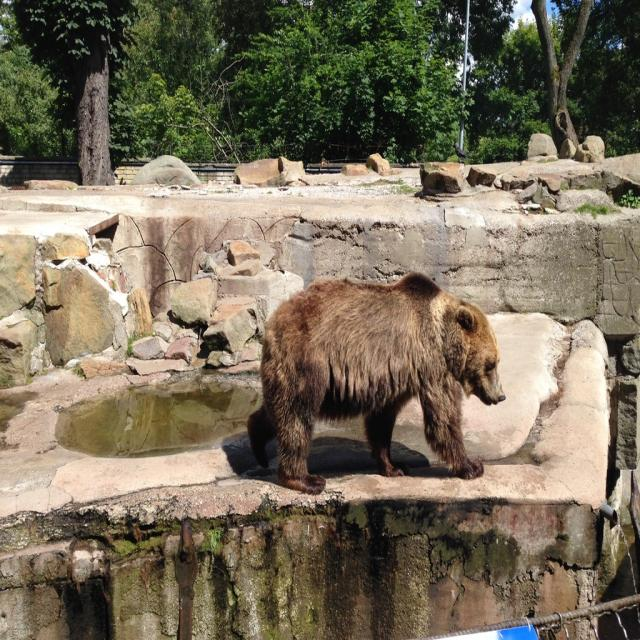Cheetahs: (245, 269, 507, 499)
